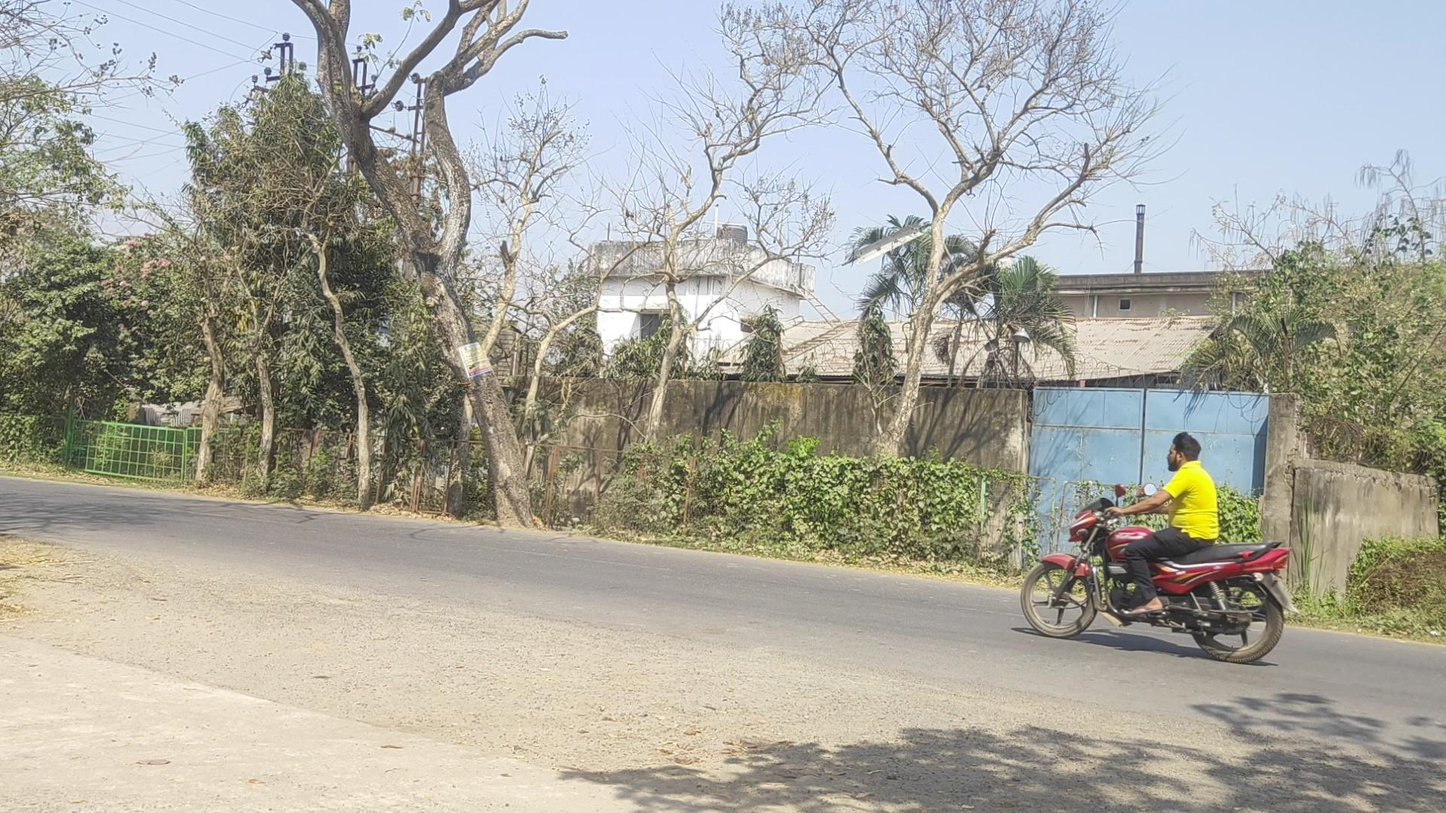bike: (1020, 431, 1299, 663)
